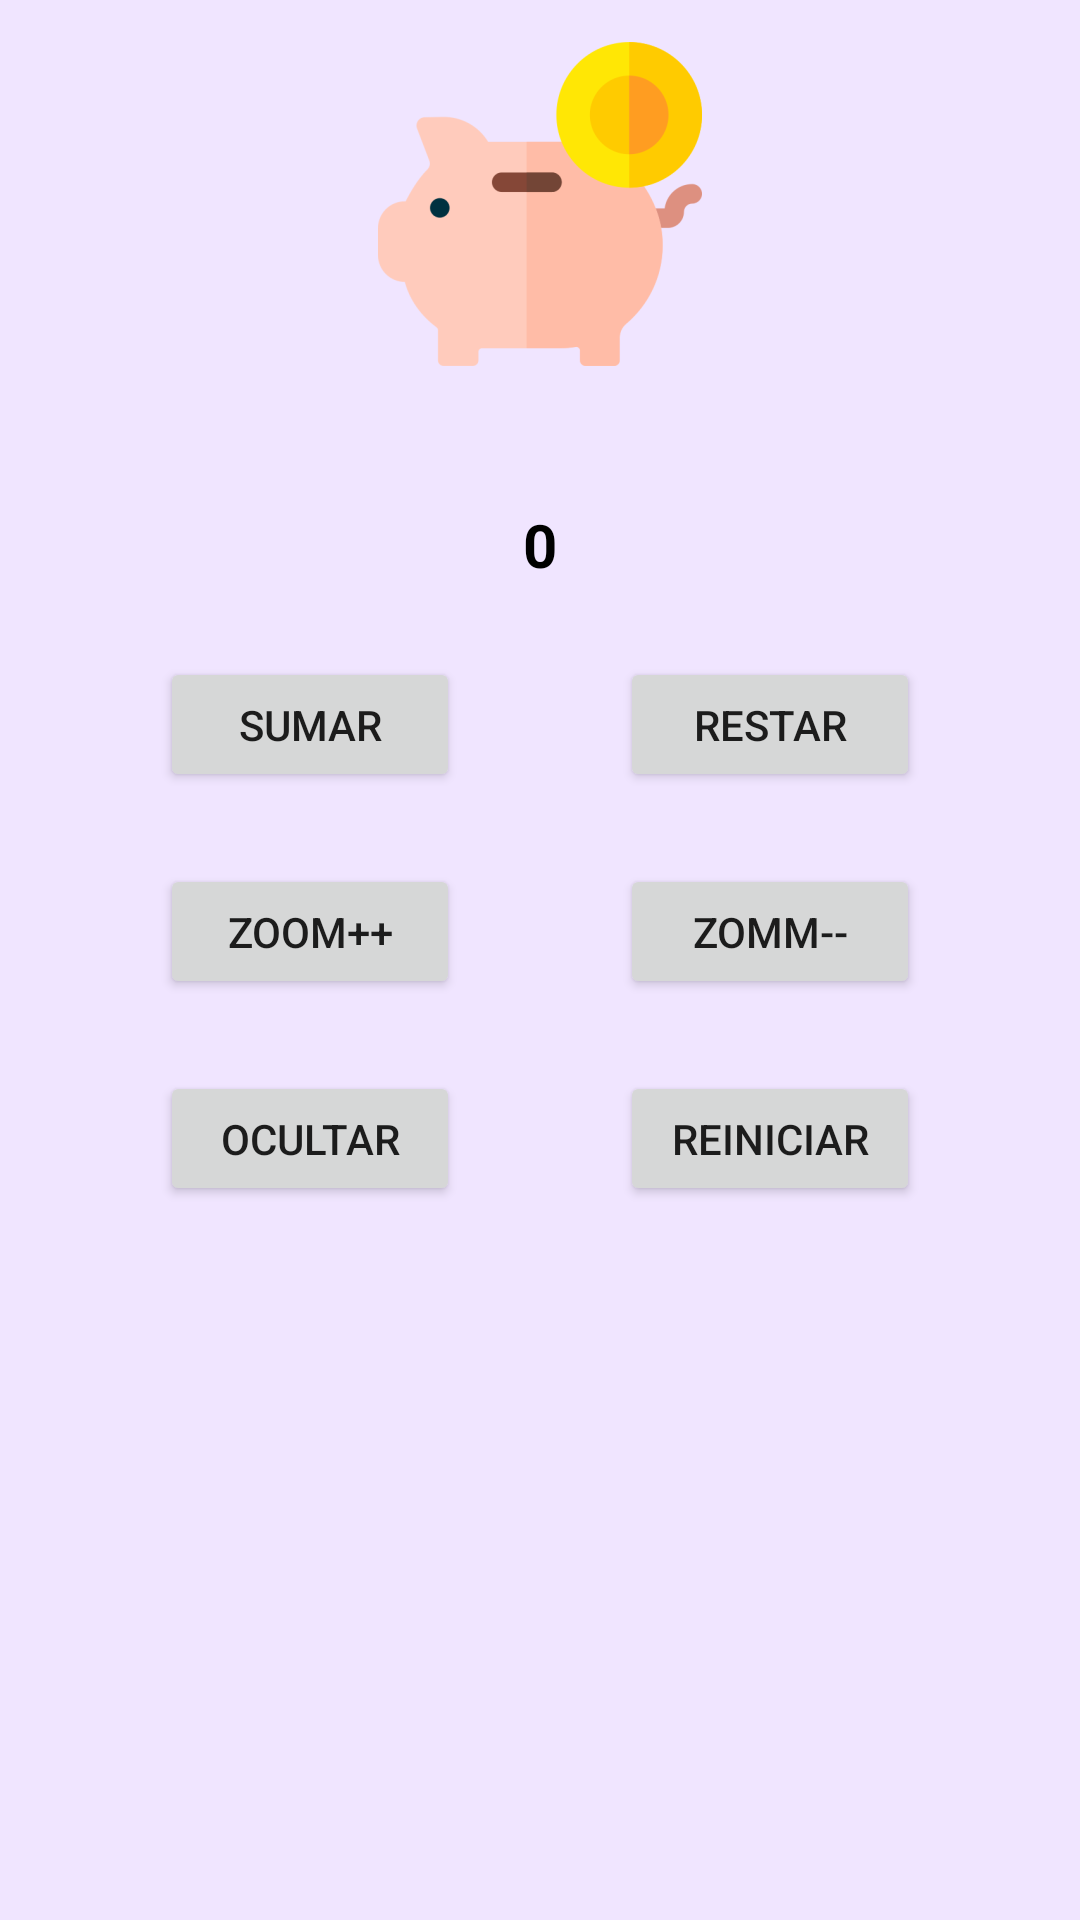

Where to tap for icons on this 1080px×1920px app screen, as (x=x, y=y):
hucha: (x=540, y=204)
